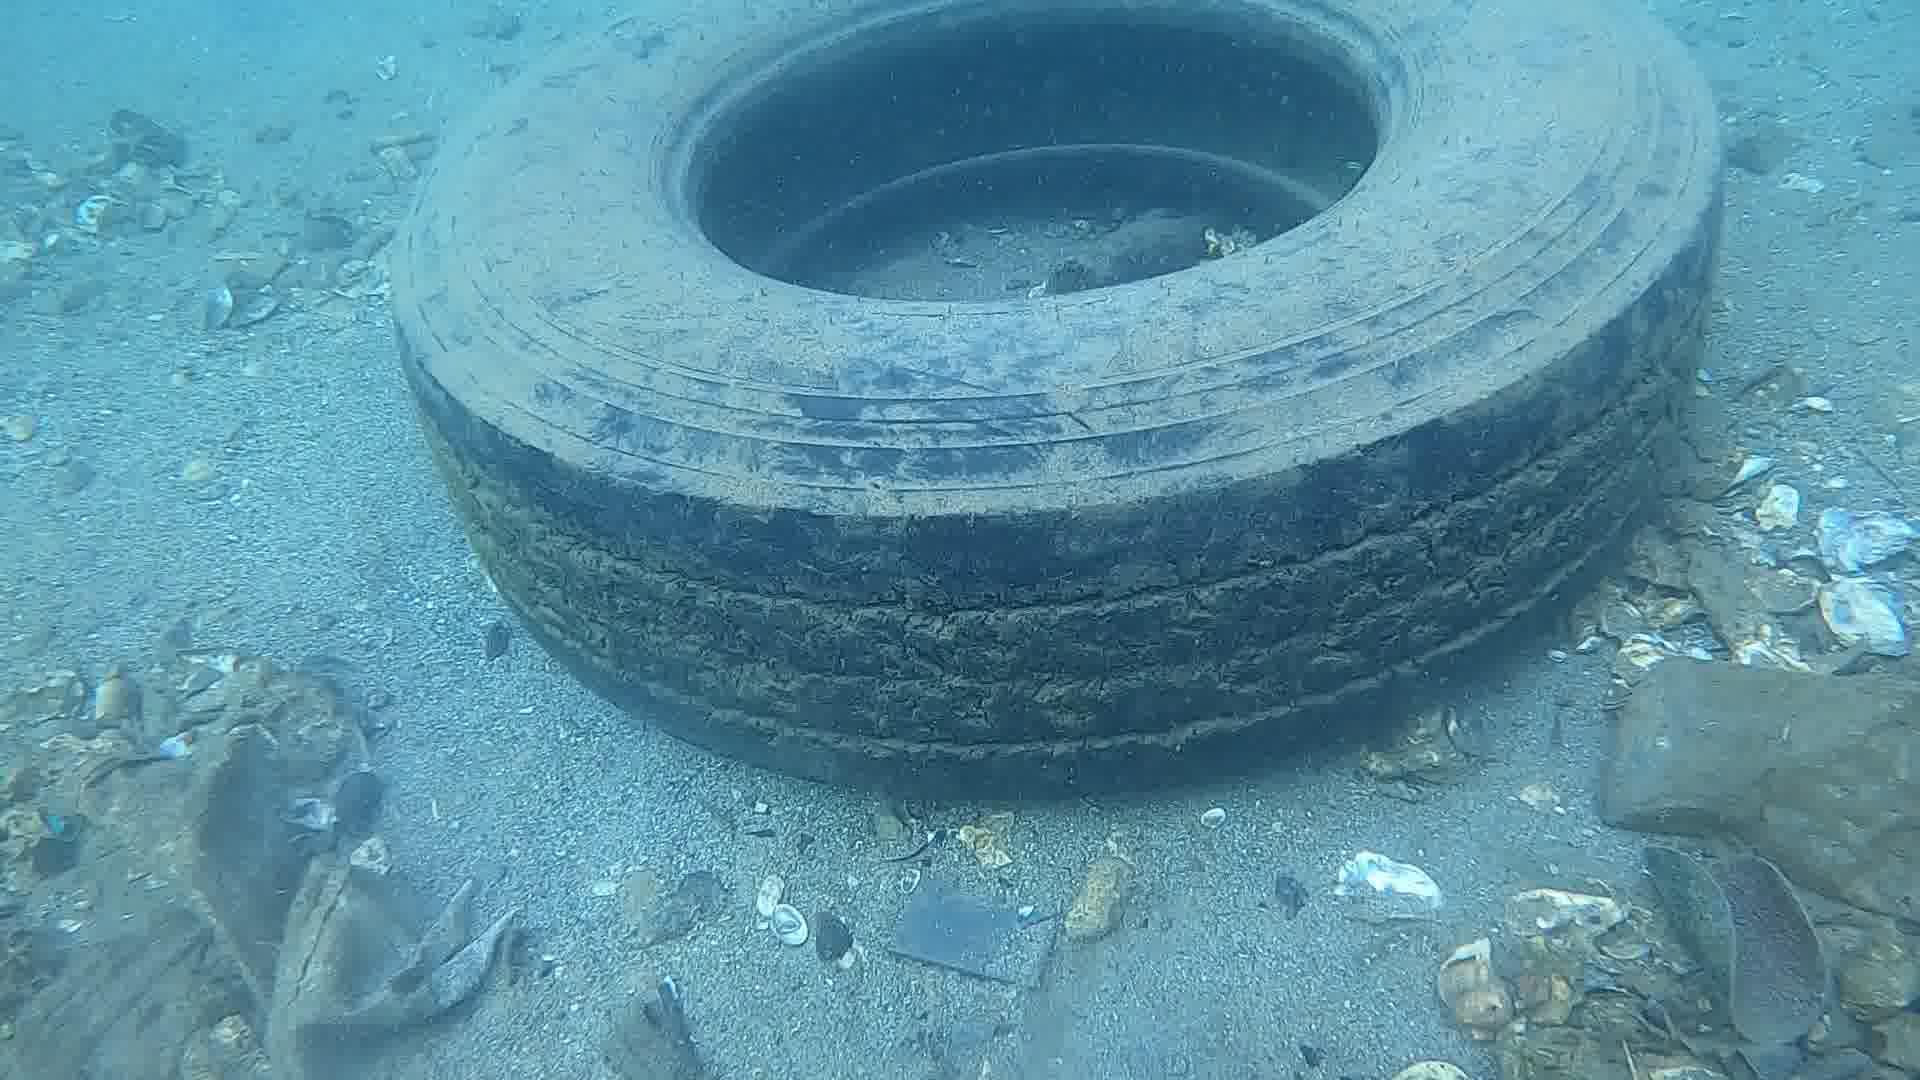tire: (382, 0, 1722, 794)
